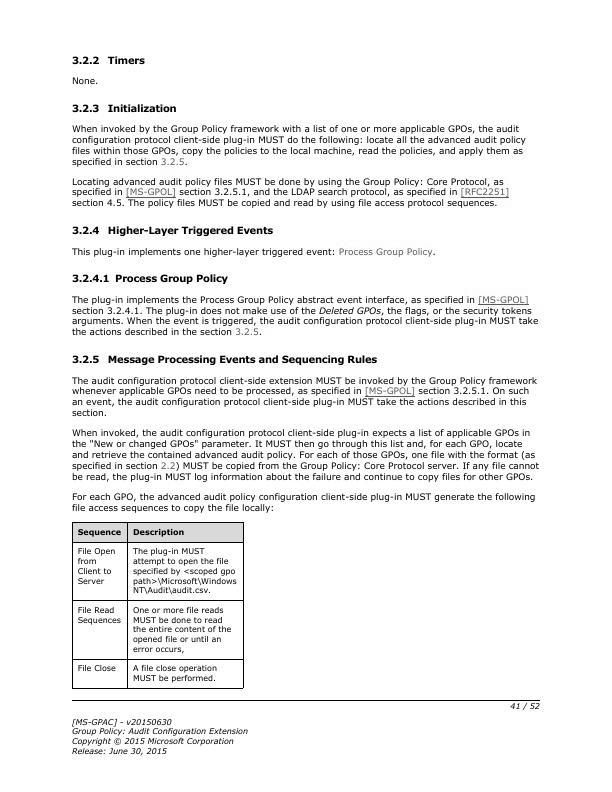table: (71, 521, 245, 689)
text: (68, 426, 541, 483), (71, 373, 538, 420), (70, 293, 540, 338), (70, 122, 527, 167), (70, 175, 511, 208), (70, 489, 538, 514), (70, 714, 251, 759), (71, 245, 438, 259), (68, 351, 380, 367), (68, 222, 275, 237), (69, 270, 230, 284), (68, 101, 179, 116), (69, 51, 148, 70), (69, 74, 100, 86)
